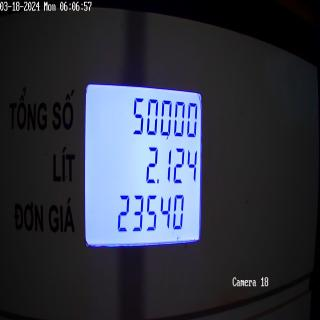screen: (81, 70, 207, 253)
